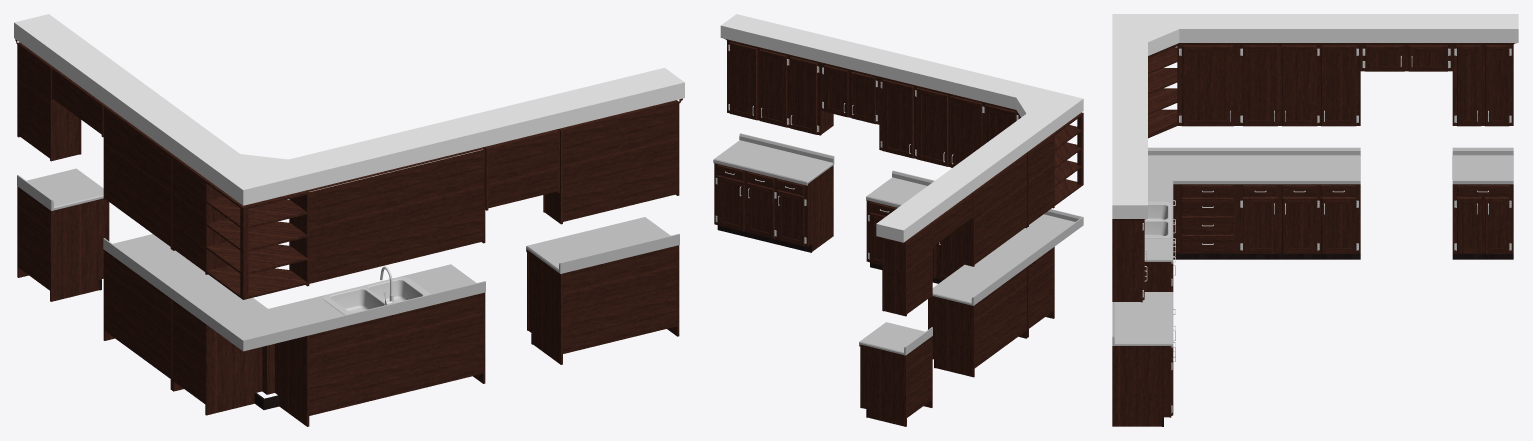
File: Kitchen fbx.fbx
The picture shows the model from 3 angles, left to right: view 1: azimuth 30°, elevation 25°; view 2: azimuth 150°, elevation 25°; view 3: azimuth 270°, elevation 25°; orthographic projection. The views are drawn at different scales.
Visible parts, largest first — view 1: Kitchen; view 2: Kitchen; view 3: Kitchen.
Boxes of the visible parts, x1,y1,x2,y2 form: Kitchen: (14, 14, 684, 426); Kitchen: (713, 14, 1083, 426); Kitchen: (1112, 14, 1518, 426).
Size of the model in its own units: 123 by 67.13 by 110.
